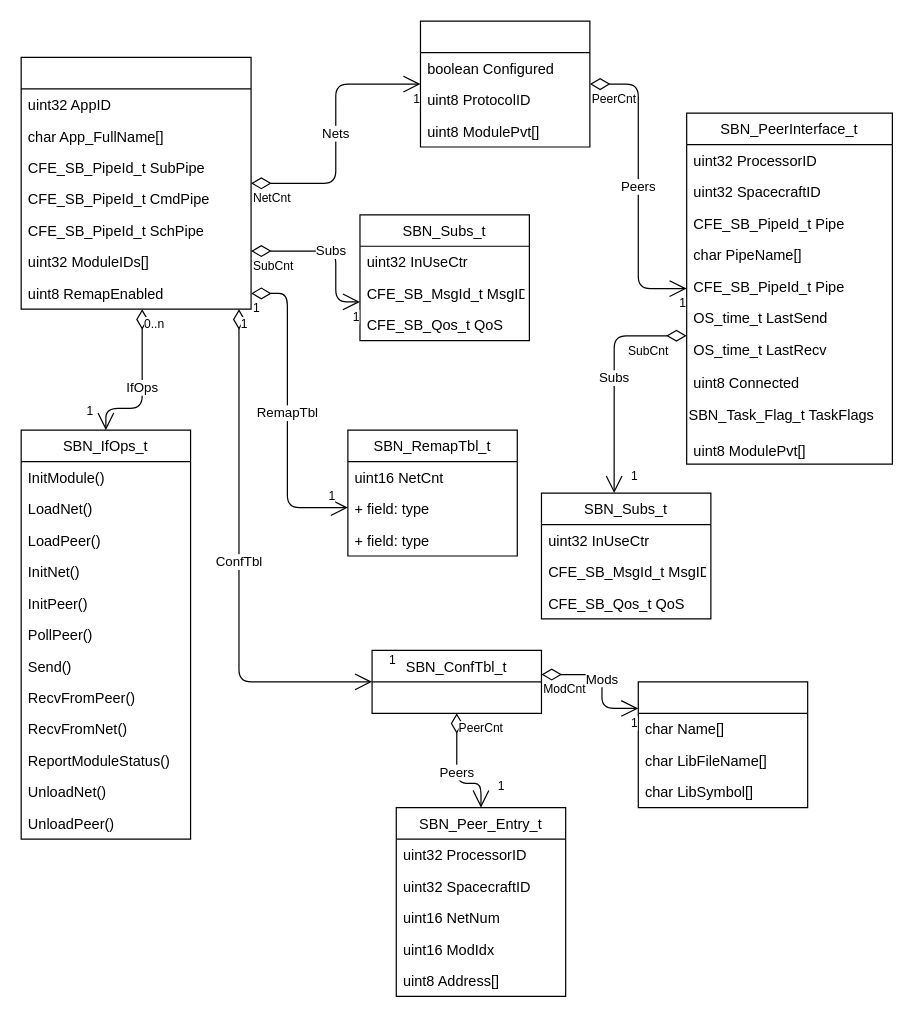
Some shapes in this 914 by 1021 pixel diagram are drawn without their labels. Here are the shapes that lost their labels. From the top down, the box of each, then its label:
(419, 20, 590, 147): SBN_NetInterface_t
(20, 56, 251, 309): SBN_App_t
(637, 681, 808, 808): SBN_Mod_Entry_t
